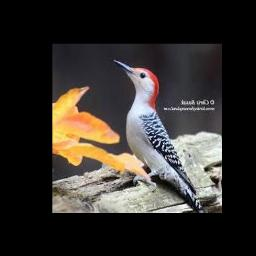Woodpecker: (113, 59, 207, 213)
